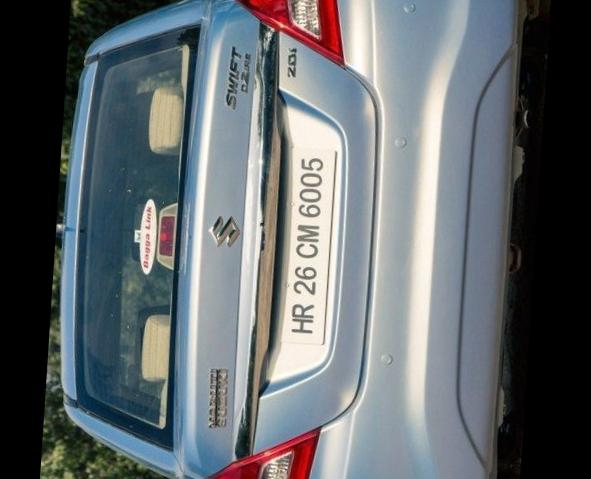plate: (266, 133, 359, 359)
